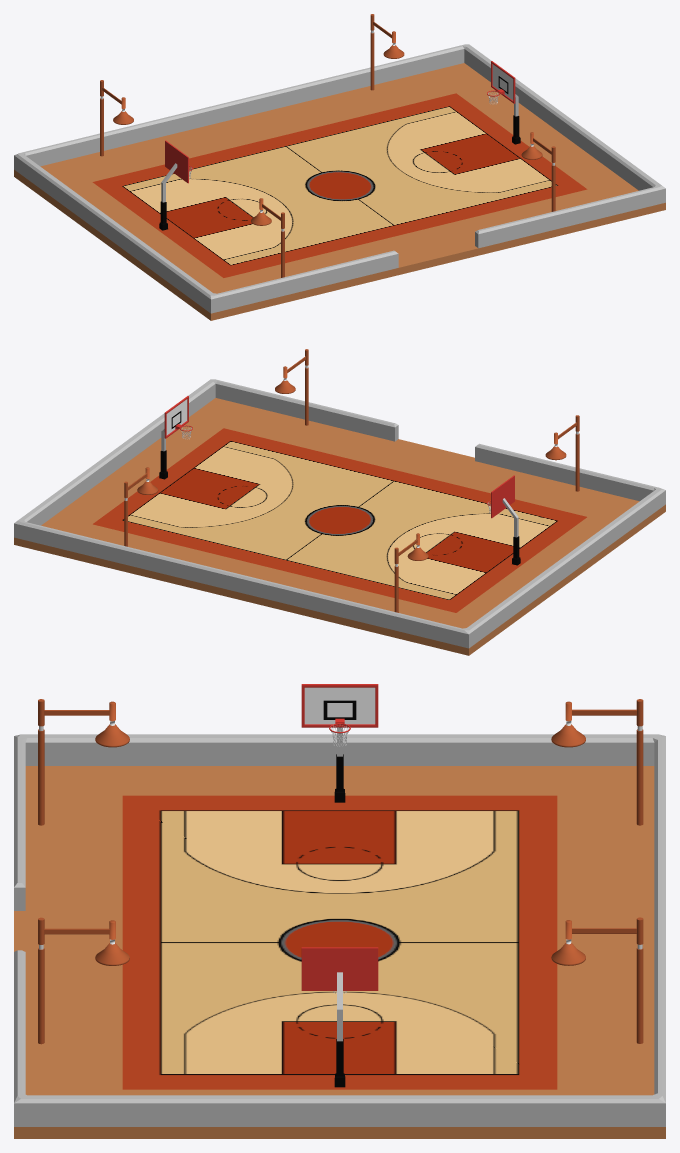
Rendered from Basketball Court.fbx.
The picture shows the model from 3 angles, top to bottom: view 1: azimuth 30°, elevation 25°; view 2: azimuth 150°, elevation 25°; view 3: azimuth 270°, elevation 25°; orthographic projection. The views are drawn at different scales.
Parts seen in each view (by area): view 1: Plane, Plane.001, Cylinder, Cylinder.001, Cylinder.005, Cylinder.002, Cylinder.004, Cylinder.003; view 2: Plane, Plane.001, Cylinder, Cylinder.001, Cylinder.003, Cylinder.004, Cylinder.002, Cylinder.005; view 3: Plane, Plane.001, Cylinder.001, Cylinder, Cylinder.004, Cylinder.005, Cylinder.002, Cylinder.003.
Boxes of the visible parts, left/top/right/bottom form: Plane: left=14, top=44, right=665, bottom=320; Plane.001: left=92, top=93, right=587, bottom=277; Cylinder: left=487, top=61, right=520, bottom=144; Cylinder.001: left=159, top=140, right=192, bottom=230; Cylinder.005: left=370, top=14, right=404, bottom=90; Cylinder.002: left=521, top=132, right=555, bottom=211; Cylinder.004: left=100, top=80, right=133, bottom=156; Cylinder.003: left=251, top=198, right=284, bottom=277; Plane: left=14, top=379, right=665, bottom=655; Plane.001: left=93, top=428, right=586, bottom=612; Cylinder: left=159, top=396, right=192, bottom=479; Cylinder.001: left=487, top=475, right=520, bottom=565; Cylinder.003: left=545, top=415, right=579, bottom=491; Cylinder.004: left=394, top=533, right=428, bottom=612; Cylinder.002: left=275, top=349, right=308, bottom=425; Cylinder.005: left=124, top=467, right=158, bottom=546; Plane: left=14, top=734, right=665, bottom=1138; Plane.001: left=122, top=795, right=557, bottom=1089; Cylinder.001: left=301, top=684, right=378, bottom=802; Cylinder: left=301, top=947, right=378, bottom=1087; Cylinder.004: left=551, top=699, right=643, bottom=825; Cylinder.005: left=551, top=917, right=643, bottom=1043; Cylinder.002: left=38, top=917, right=129, bottom=1044; Cylinder.003: left=38, top=699, right=129, bottom=825.
Bounding box in the file's own units: 1000 × 177 × 750.
9 materials, 1 textured.
